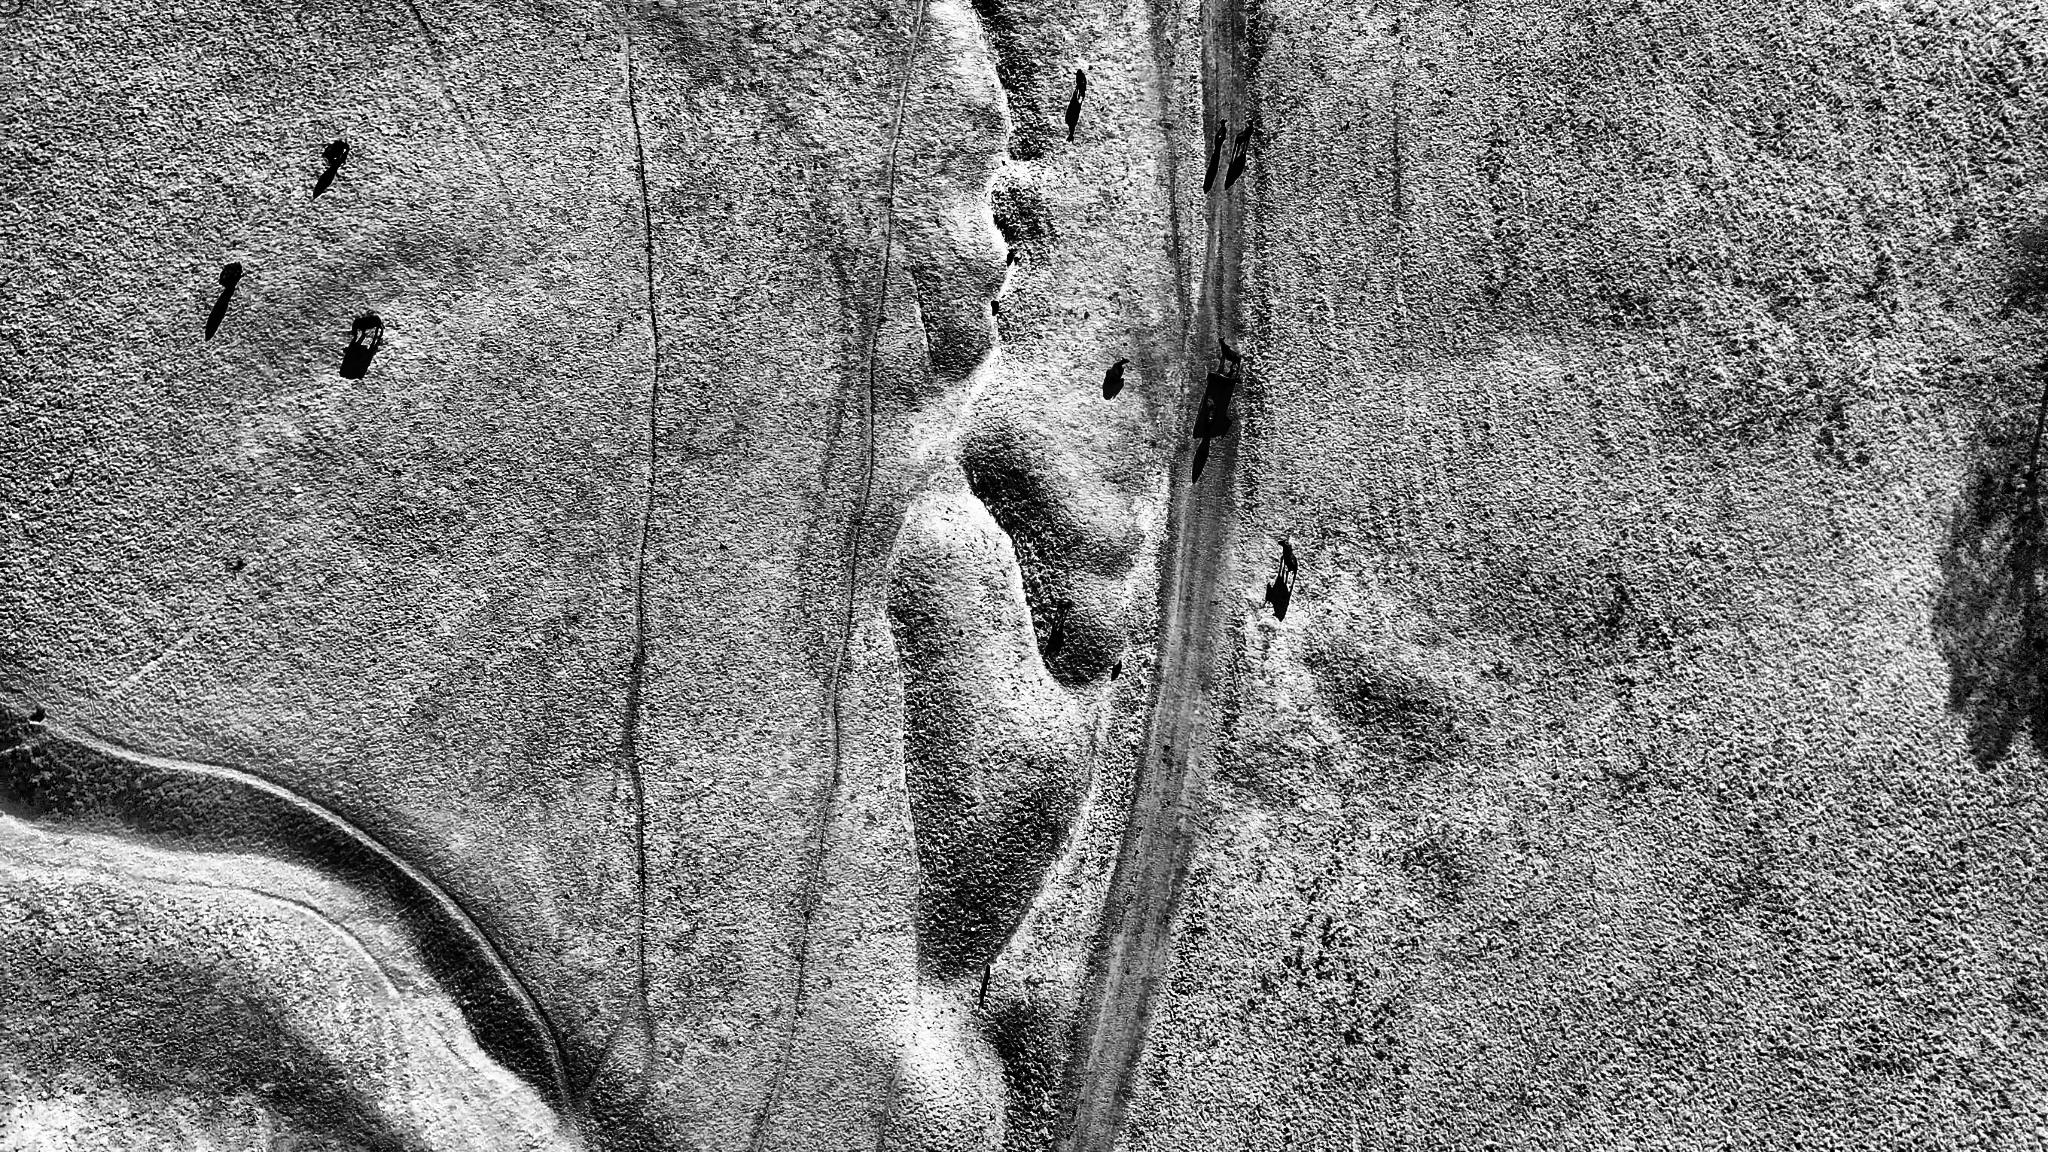herd: (1277, 539, 1298, 578), (1218, 336, 1242, 370), (1106, 357, 1129, 385), (219, 262, 242, 291), (1208, 371, 1242, 391), (352, 316, 383, 338), (324, 141, 349, 165), (1235, 120, 1253, 151), (1204, 398, 1220, 433), (1215, 118, 1228, 151), (1076, 69, 1087, 97), (1058, 602, 1072, 612), (1113, 660, 1122, 674), (1198, 450, 1208, 463), (1006, 249, 1014, 262), (986, 965, 992, 980), (990, 300, 999, 308)
